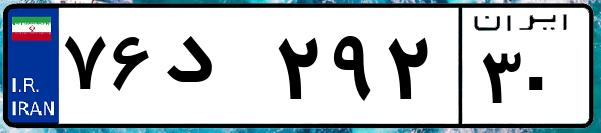0: (525, 38, 570, 115)
2: (270, 28, 330, 110), (385, 28, 445, 110)
3: (475, 38, 525, 113)
6: (110, 28, 158, 98)
7: (57, 26, 110, 100)
9: (330, 28, 385, 110)
د: (158, 20, 270, 120)
